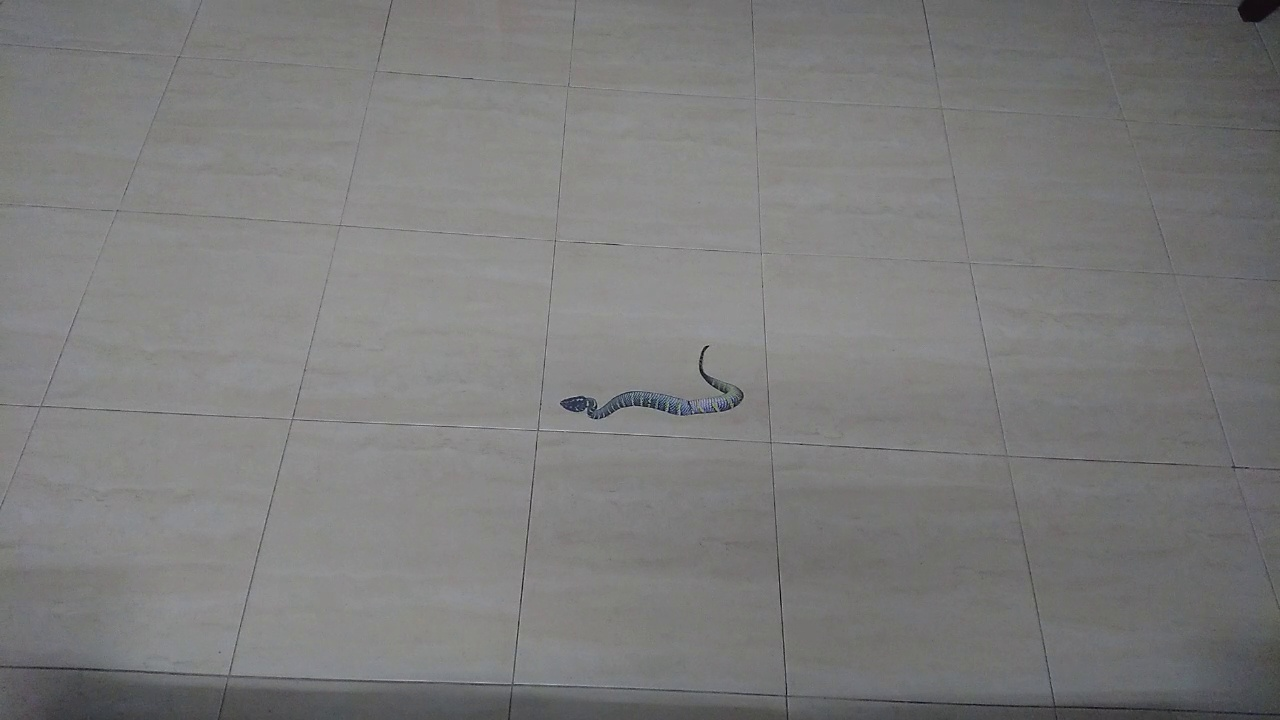snake: (534, 324, 756, 432)
